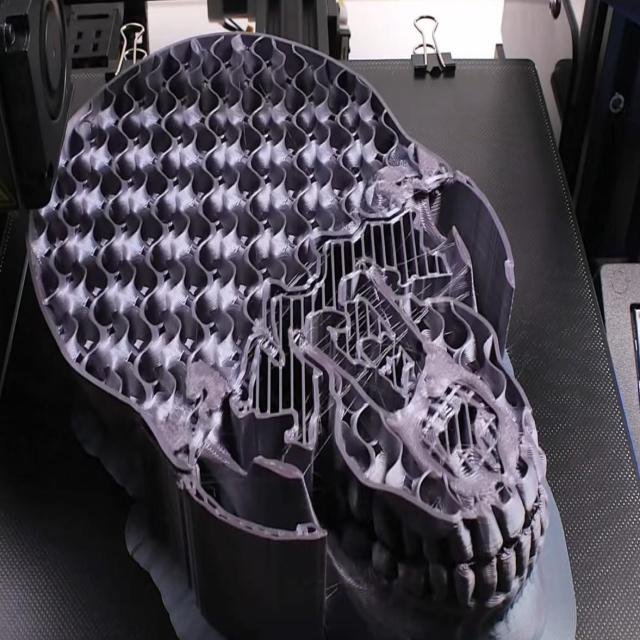Stringing: (260, 236, 482, 438)
